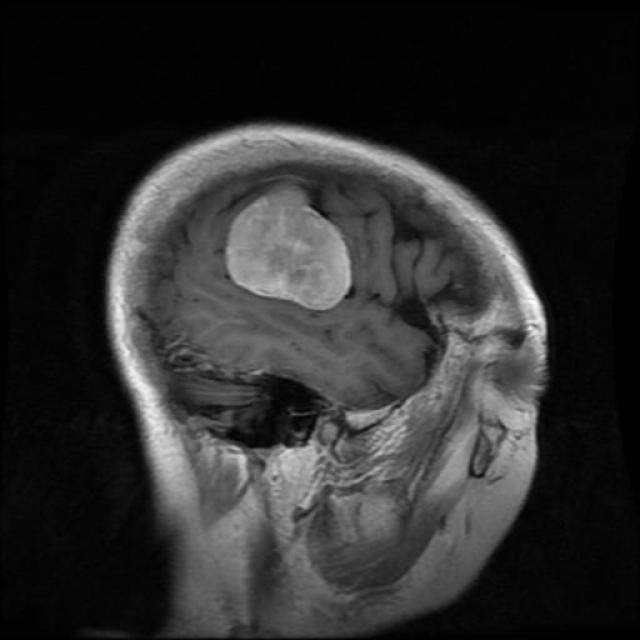meningioma: (224, 182, 354, 312)
